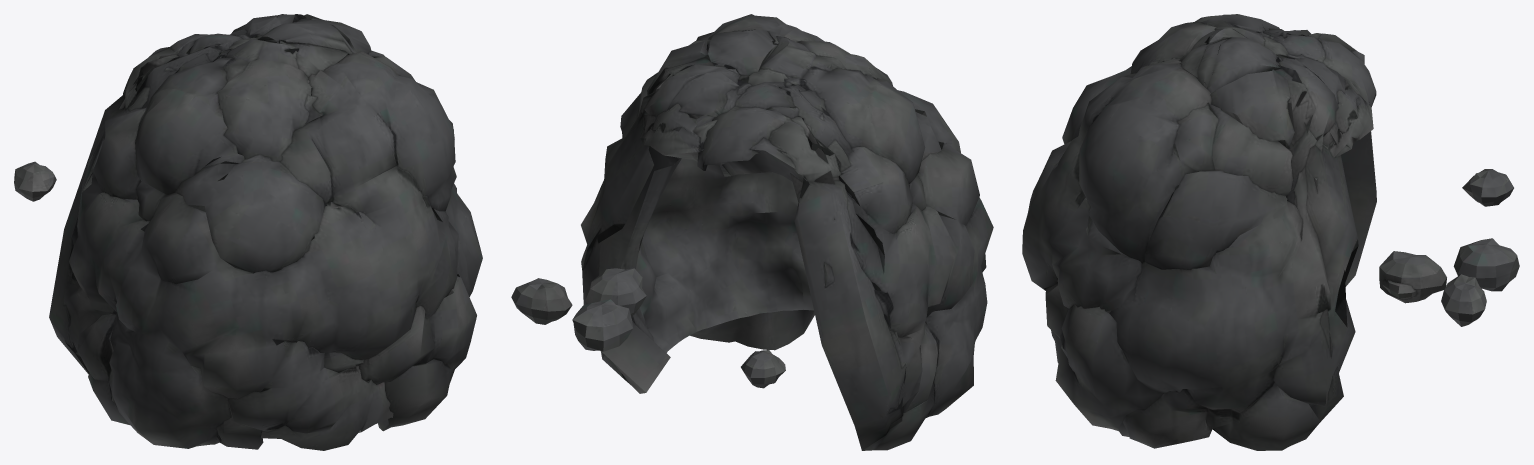
File: miller_cave_shelter.glb
3 renders of one model, left to right at view 1: azimuth 30°, elevation 25°; view 2: azimuth 150°, elevation 25°; view 3: azimuth 270°, elevation 25°, orthographic.
Parts seen in each view (by area): view 1: miller_cave_shelter_mesh; view 2: miller_cave_shelter_mesh; view 3: miller_cave_shelter_mesh.
Boxes of the visible parts, <box> form: miller_cave_shelter_mesh: <box>14,14,482,450</box>; miller_cave_shelter_mesh: <box>511,14,993,450</box>; miller_cave_shelter_mesh: <box>1022,14,1519,450</box>.
Bounding box in the file's own units: 8.23 × 8.12 × 9.84.
1 material, 1 textured.
